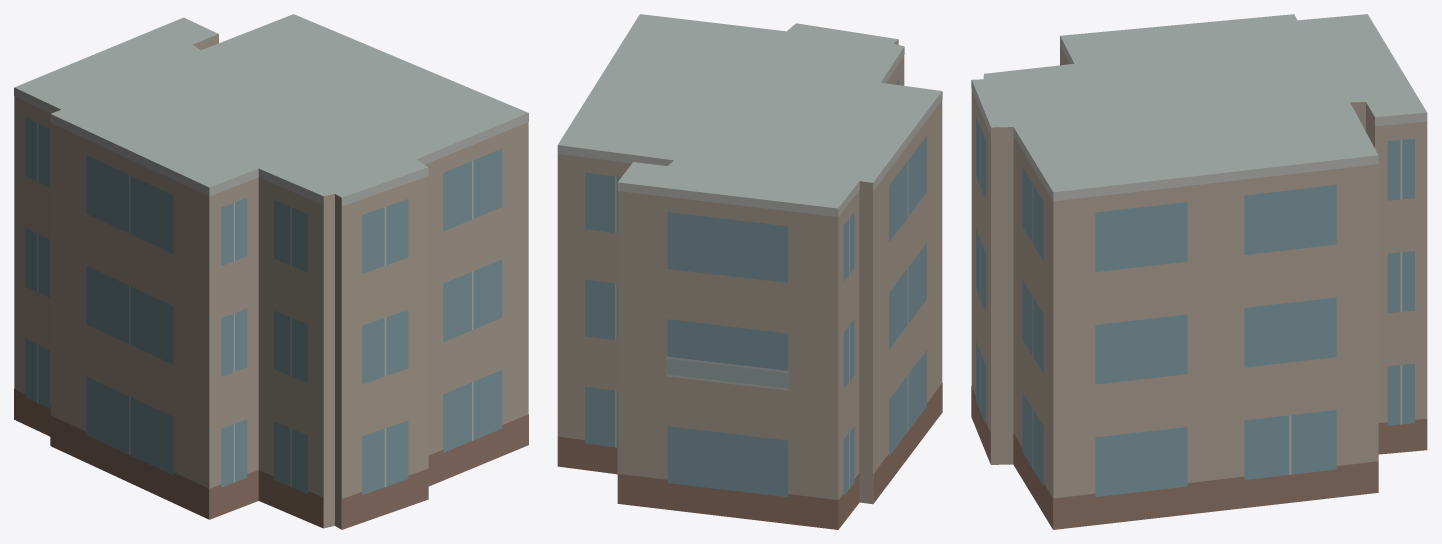
Rendered from survey-upis-33023663.glb.
The picture shows the model from 3 angles, left to right: view 1: azimuth 30°, elevation 25°; view 2: azimuth 150°, elevation 25°; view 3: azimuth 270°, elevation 25°; orthographic projection. The views are drawn at different scales.
Visible parts, largest first — view 1: survey-upis-33023663.tmp; view 2: survey-upis-33023663.tmp; view 3: survey-upis-33023663.tmp.
Part boxes in pixels (x1=…): survey-upis-33023663.tmp: x1=14, y1=14, x2=528, y2=529; survey-upis-33023663.tmp: x1=557, y1=14, x2=942, y2=529; survey-upis-33023663.tmp: x1=971, y1=14, x2=1427, y2=529.
Size of the model in its own units: 10.38 by 9.15 by 11.21.
